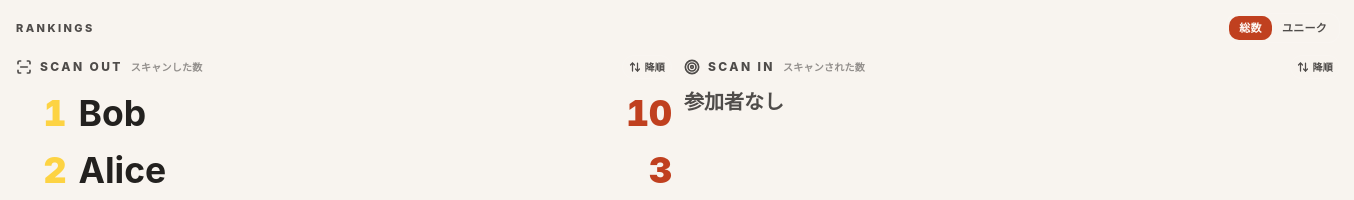
Test: RankingsTile › toggle back to 総数 restores the original counts and order
The image size is (1354, 200).
What coordinates should you click on to do the following:
click the button "ユニーク"
I would click on:
 (1304, 28)
Its box is [1272,16,1337,40].
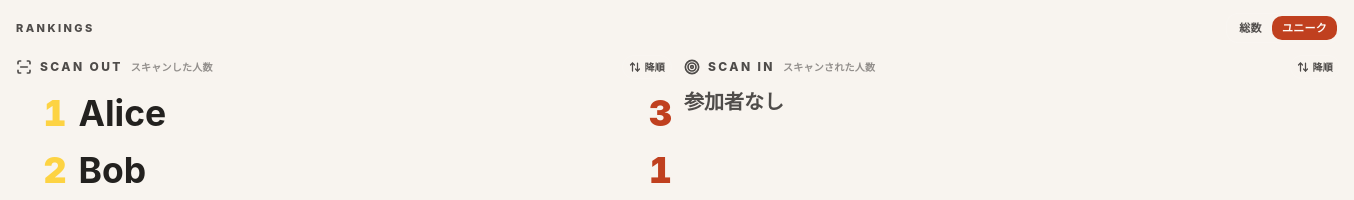
What coordinates should you click on to do the following:
click the button "総数"
I would click on:
 (1251, 28)
Its box is [1229,16,1272,40].
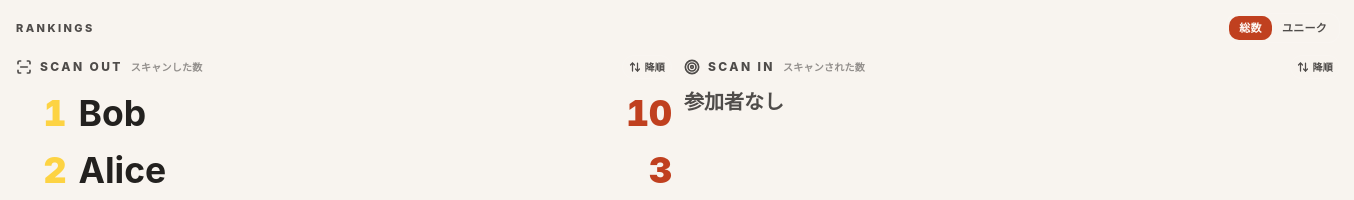
Expected: the text "10" is shown, [626,87,672,140]
